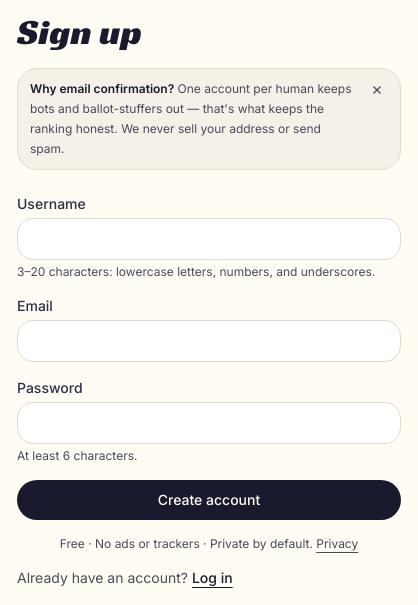
Scenario: SignupPage › shows the non-blocking why-email nudge until dismissed
Check: the text "Why email confirmation?" is shown, box [30,81,174,96]
Check: the button "Create account" is enabled, box [17,480,401,520]
Click the button named "Dismiss notice" at (377, 90), box [366,79,388,101]
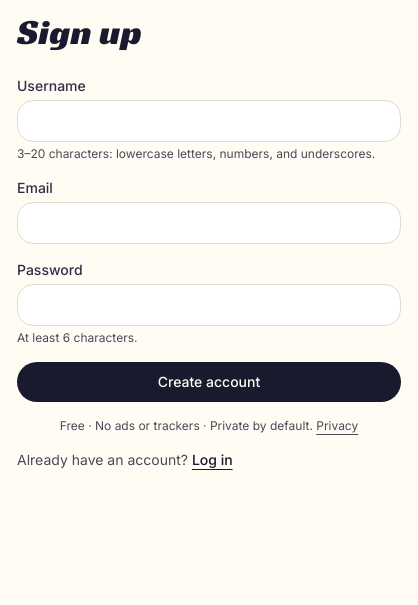
Check: the text "Why email confirmation?" is gone
